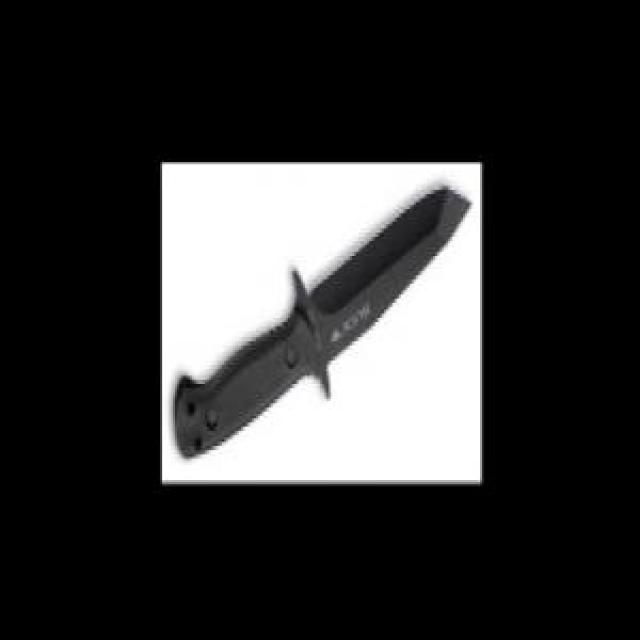knife: (172, 181, 474, 461)
